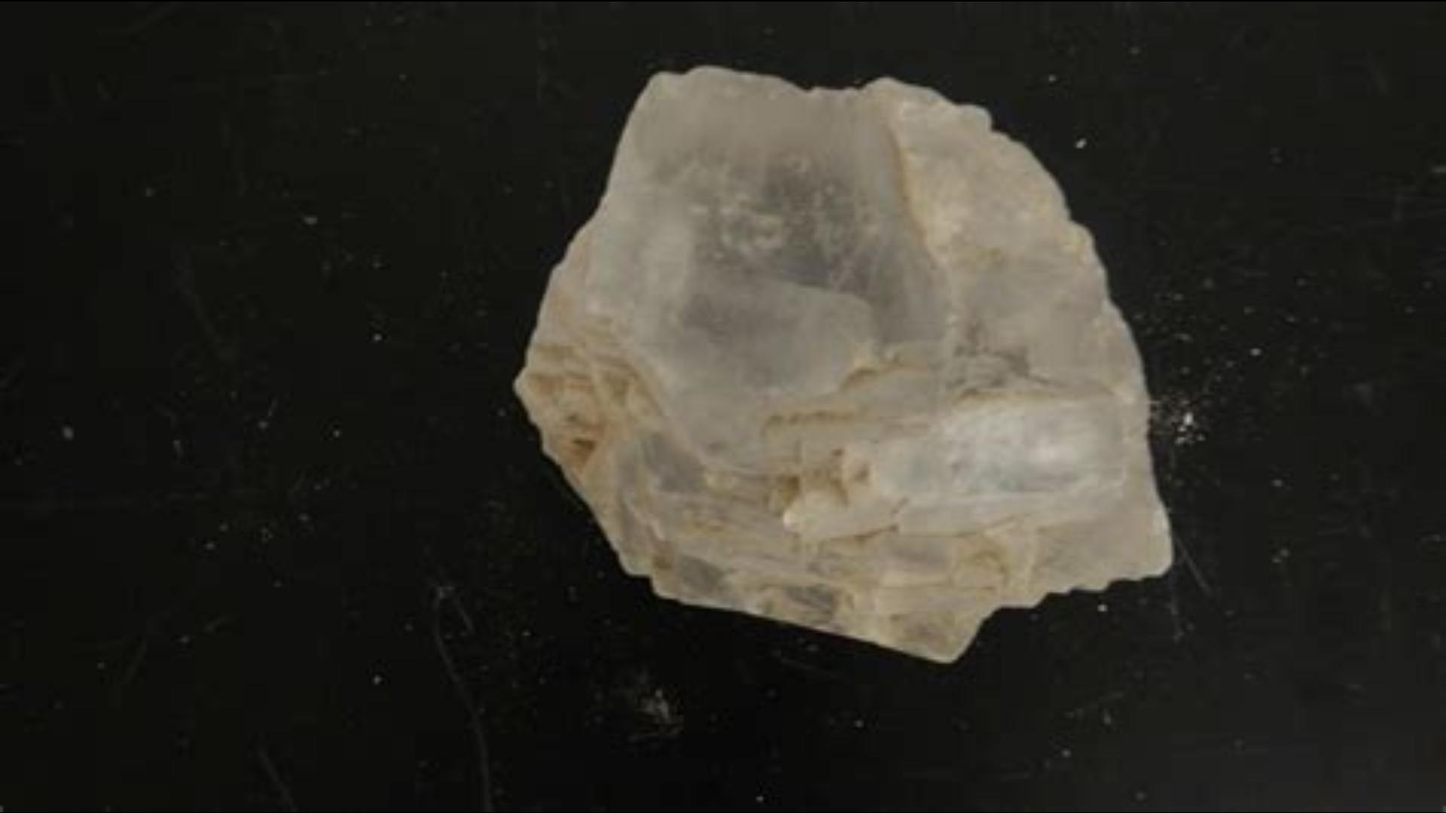rock: (516, 68, 1162, 656)
